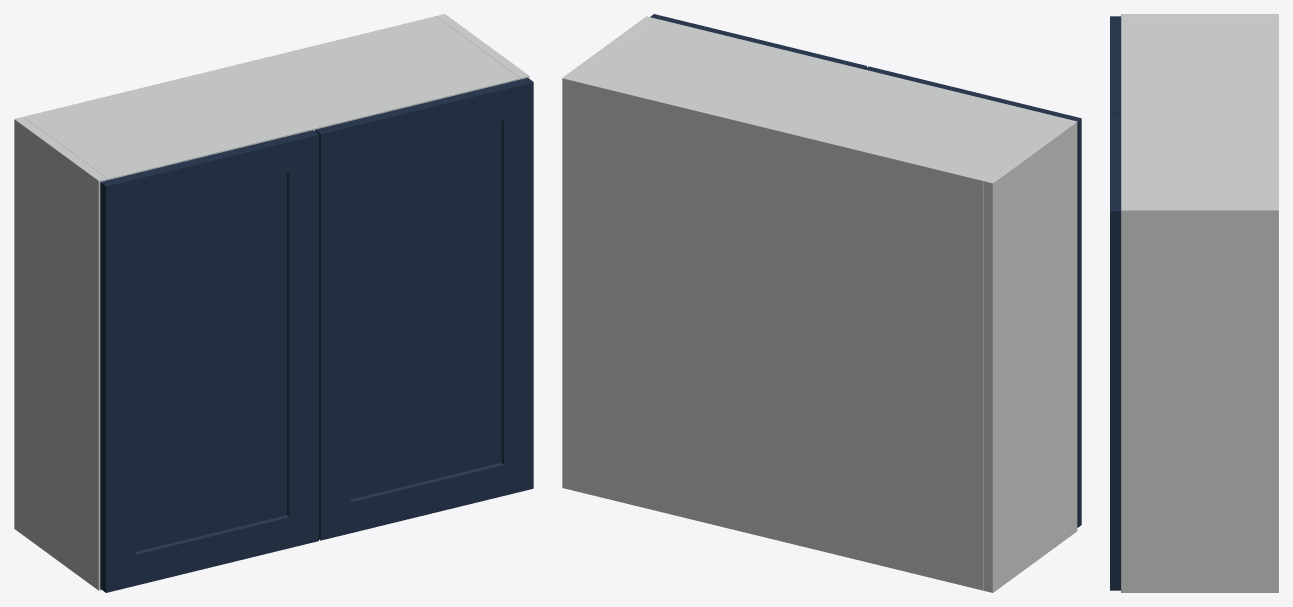
The model's file is oppein-ply-bss-w3330.glb.
The picture shows the model from 3 angles, left to right: view 1: azimuth 30°, elevation 25°; view 2: azimuth 150°, elevation 25°; view 3: azimuth 270°, elevation 25°; orthographic projection. The views are drawn at different scales.
Visible parts, largest first — view 1: Door, Door.001, Cabinet side, Cabinet top, Cabinet back, Cabinet side.001; view 2: Cabinet back, Cabinet side, Cabinet top, Cabinet side.001, Door, Cabinet bottom, Door.001; view 3: Cabinet side.001, Cabinet top, Door.001, Cabinet back, Door, Cabinet side.
Boxes of the visible parts, x1,y1,x2,y2 form: Door: [100, 130, 318, 592]; Door.001: [315, 78, 533, 540]; Cabinet side: [14, 117, 107, 590]; Cabinet top: [24, 17, 519, 179]; Cabinet back: [24, 16, 438, 118]; Cabinet side.001: [436, 14, 529, 79]; Cabinet back: [571, 78, 986, 590]; Cabinet side: [984, 119, 1077, 592]; Cabinet top: [571, 18, 1067, 188]; Cabinet side.001: [562, 16, 655, 489]; Door: [864, 66, 1081, 527]; Cabinet bottom: [572, 481, 979, 586]; Door.001: [650, 14, 866, 69]; Cabinet side.001: [1121, 206, 1278, 592]; Cabinet top: [1121, 18, 1278, 206]; Door.001: [1110, 114, 1120, 590]; Cabinet back: [1272, 18, 1278, 206]; Door: [1110, 16, 1120, 113]; Cabinet side: [1121, 14, 1278, 18].
Size of the model in its own units: 0.8382 by 0.762 by 0.3048.
